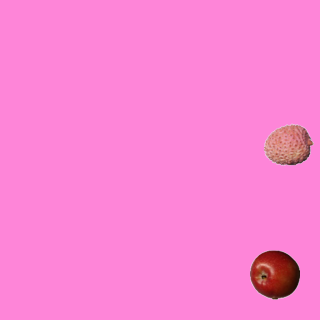Apple Braeburn: (249, 249, 299, 299)
Lychee: (263, 119, 313, 169)
